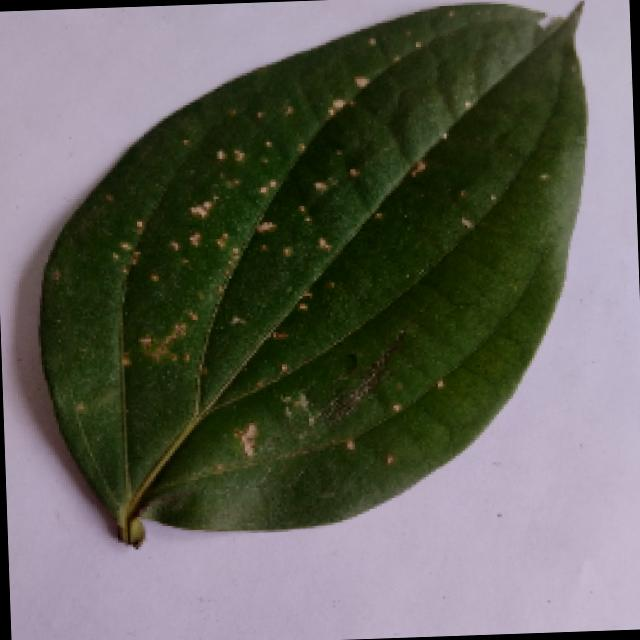pollu-disease: (7, 8, 610, 561)
